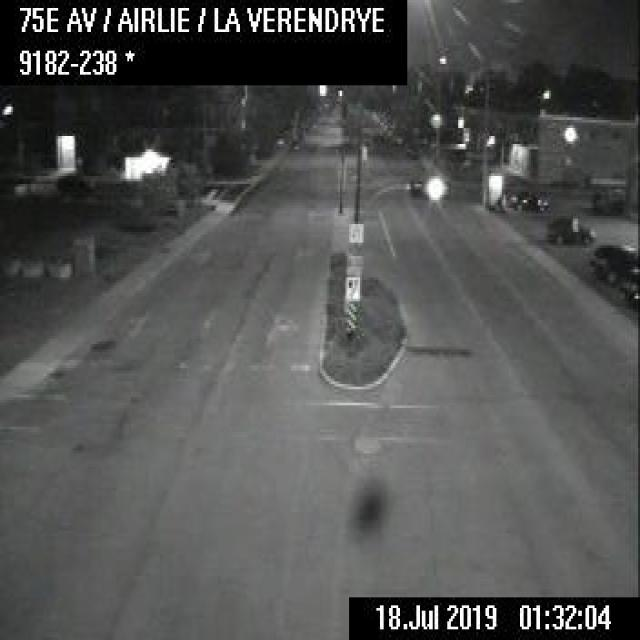vehicle: (590, 237, 638, 284), (548, 214, 594, 245), (509, 187, 549, 214), (54, 169, 93, 195)
